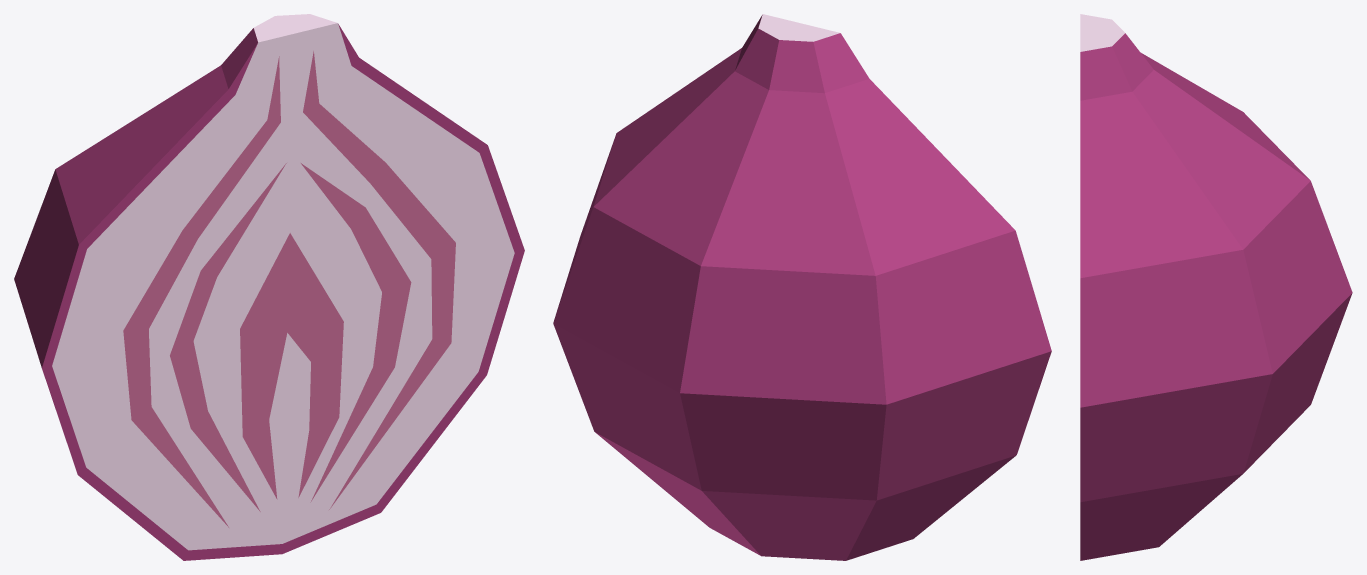
Rendered from Onion_Red_half.obj.
3 views of the same model, side by side, from view 1: azimuth 30°, elevation 25°; view 2: azimuth 150°, elevation 25°; view 3: azimuth 270°, elevation 25° (orthographic). The views are drawn at different scales.
Visible parts, largest first — view 1: Onion_Red_half_Base-Color; view 2: Onion_Red_half_Base-Color; view 3: Onion_Red_half_Base-Color.
Boxes of the visible parts, x1=… form: Onion_Red_half_Base-Color: x1=14, y1=14, x2=524, y2=560; Onion_Red_half_Base-Color: x1=553, y1=14, x2=1051, y2=560; Onion_Red_half_Base-Color: x1=1080, y1=14, x2=1352, y2=560.
Size of the model in its own units: 0.1706 by 0.1747 by 0.0853.
